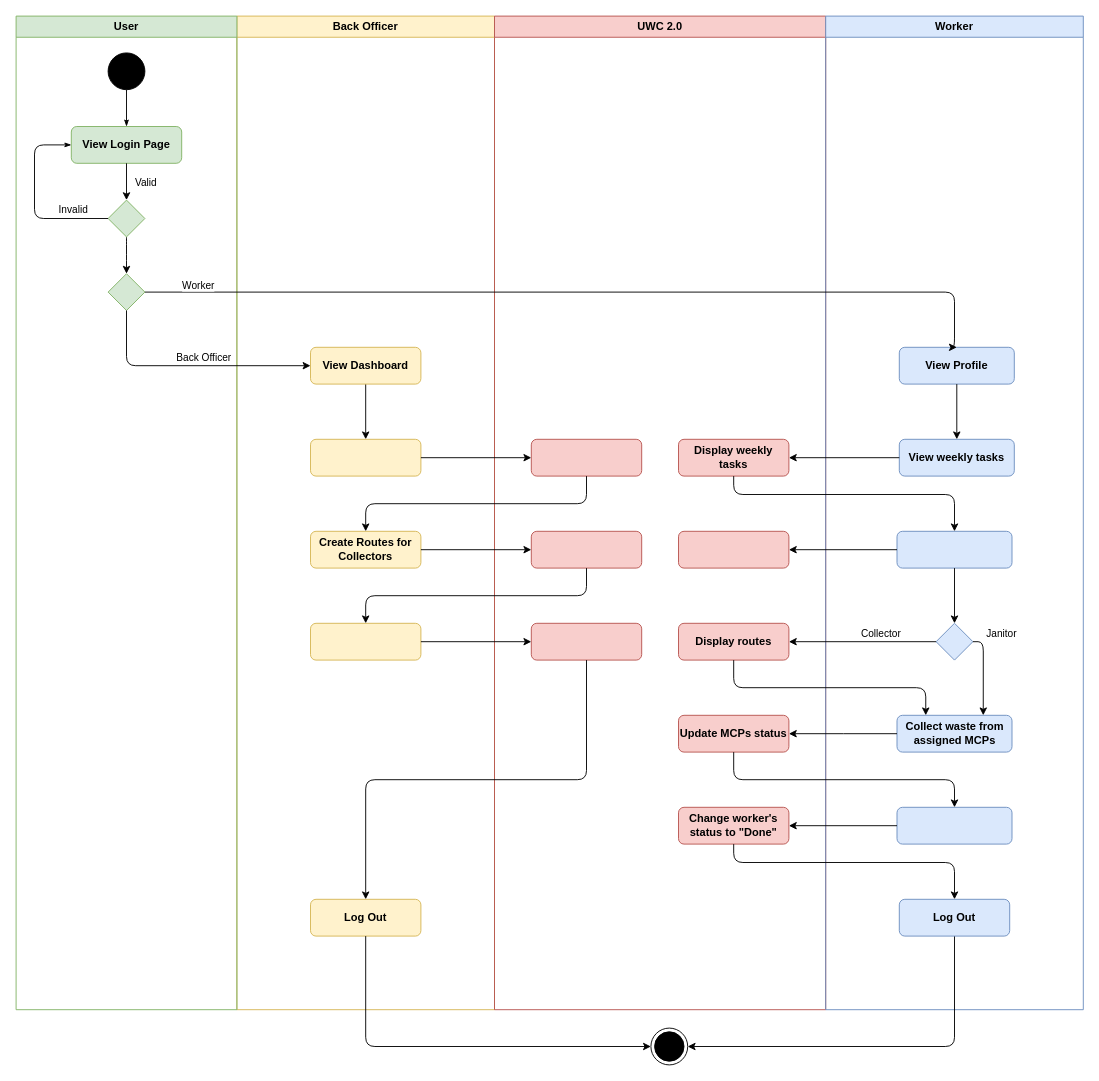
This 1099x1081 diagram has some shape labels left out. The centre of each missing label's shape, as x and y in pixels:
Assign MCPs for workers: point (365, 457)
Assign vehicles for workers: point (365, 641)
Change worker's status to "Working": point (733, 549)
Check In: point (954, 549)
Check Out: point (954, 825)
Update routes in collector's calendar: point (586, 549)
Update tasks in worker's calendar: point (586, 457)
Update vehicles in worker's calendar: point (586, 641)
